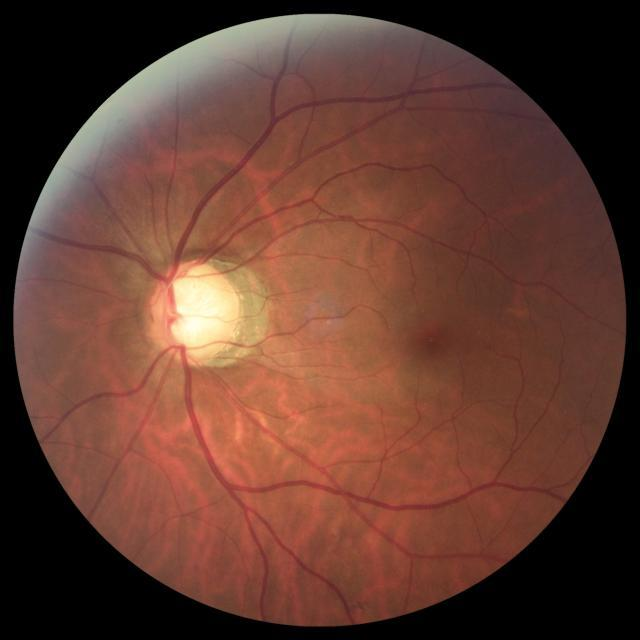OC: (166, 272, 226, 351)
OD: (149, 260, 242, 364)
